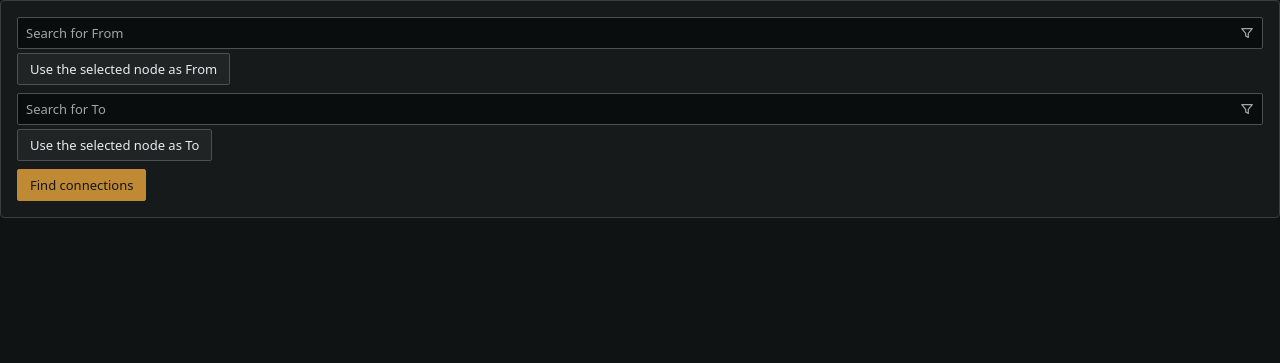
choosing the two ends › takes each end from a search, and asks for the fewest degrees with no degree given
The image size is (1280, 363).
In the dropdown with placeholder "Search for From": x=640, y=33 [17,17,1263,49], type "Ad"
Wait 250 ms
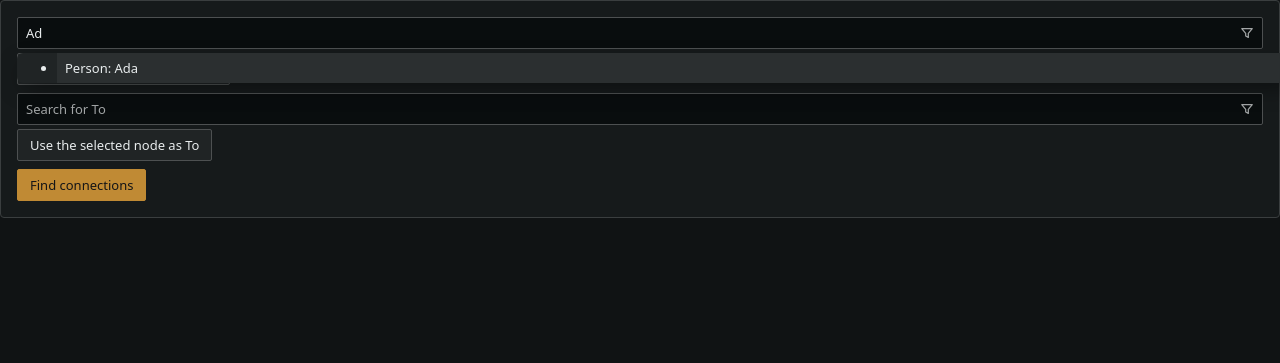
Press the mouse on the option "Person: Ada": x=102, y=68 [57,53,1279,83]
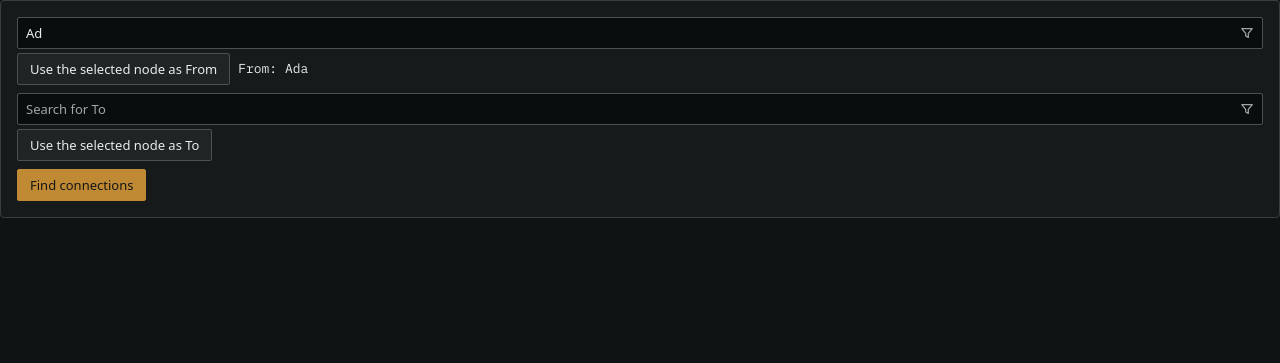
In the dropdown with placeholder "Search for To": x=640, y=109 [17,93,1263,125], type "De"
Wait 250 ms
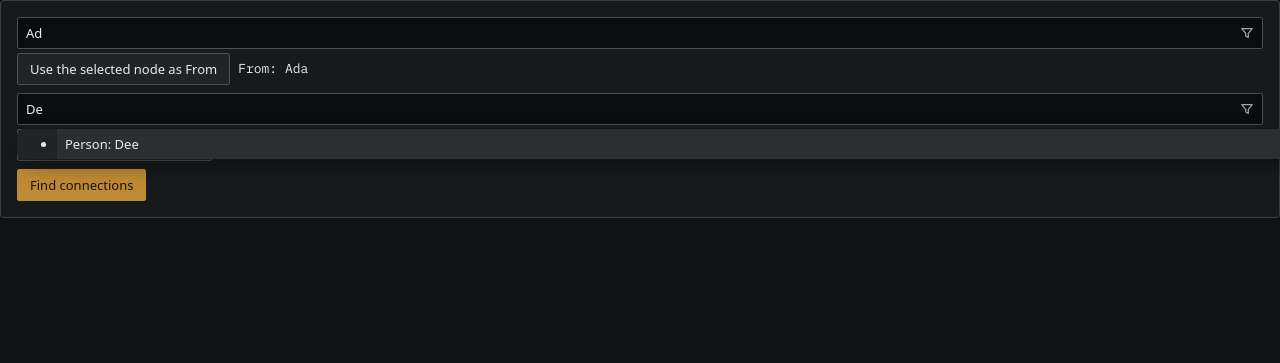
Press the mouse on the option "Person: Dee": x=102, y=144 [57,129,1279,159]
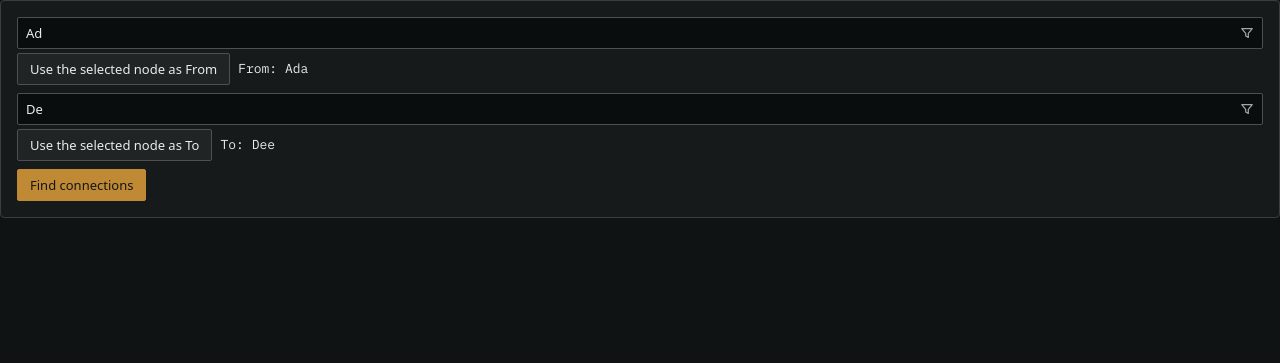
Expected: the text "From: Ada" is shown, [238,60,308,78]
Expected: the text "To: Dee" is shown, [220,136,275,154]
Click the button "Find connections": x=82, y=185 [17,169,146,201]
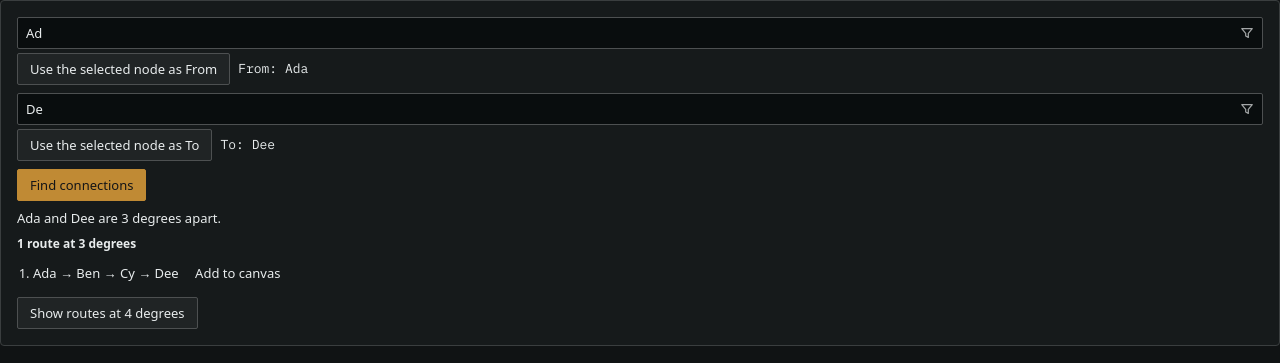
Expected: the message reads "Ada and Dee are 3 degrees apart.", [17,209,221,227]
Expected: the text "Ada → Ben → Cy → Dee" is shown, [33,264,179,282]
